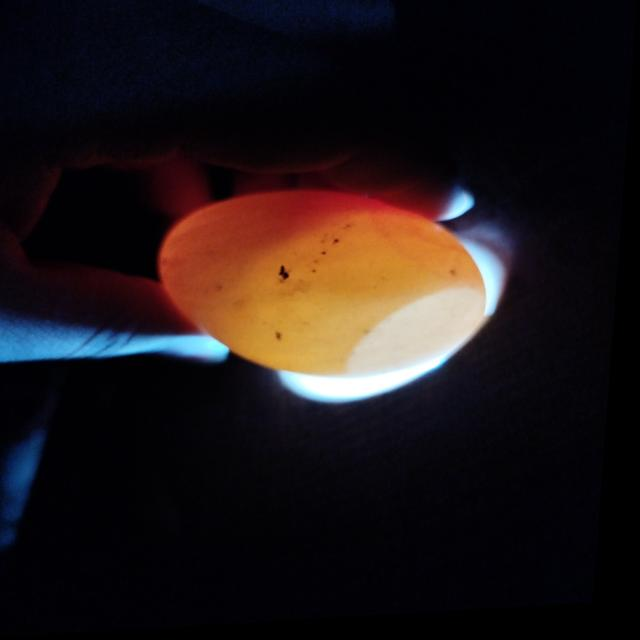Camara de Ar: (351, 290, 490, 380)
Gema Quebrada: (162, 198, 425, 350)
